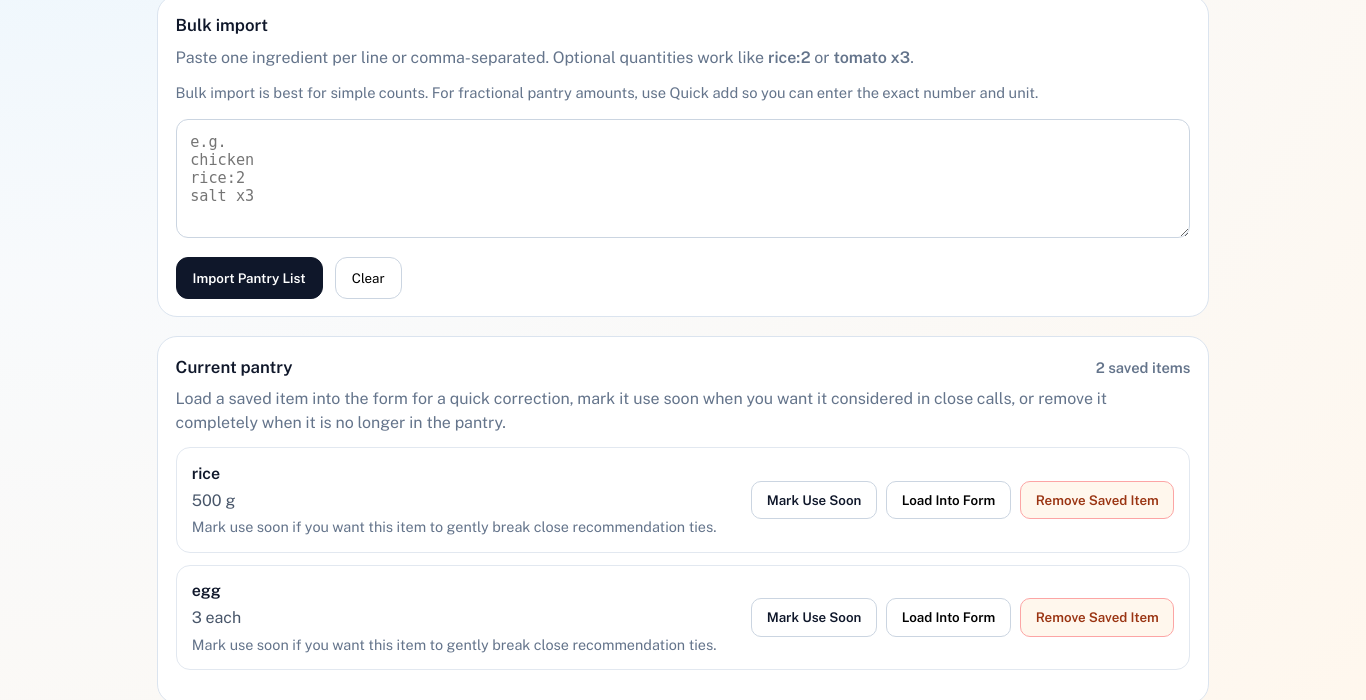
it: Pantry precision flow › loads a pantry row into the quick add form for precise correction
The width and height of the screenshot is (1366, 700).
(page scrolled)
Click the button "Load Into Form" in the row of "500 g". click: (949, 500)
box: [886,481,1011,519]
(page scrolled)
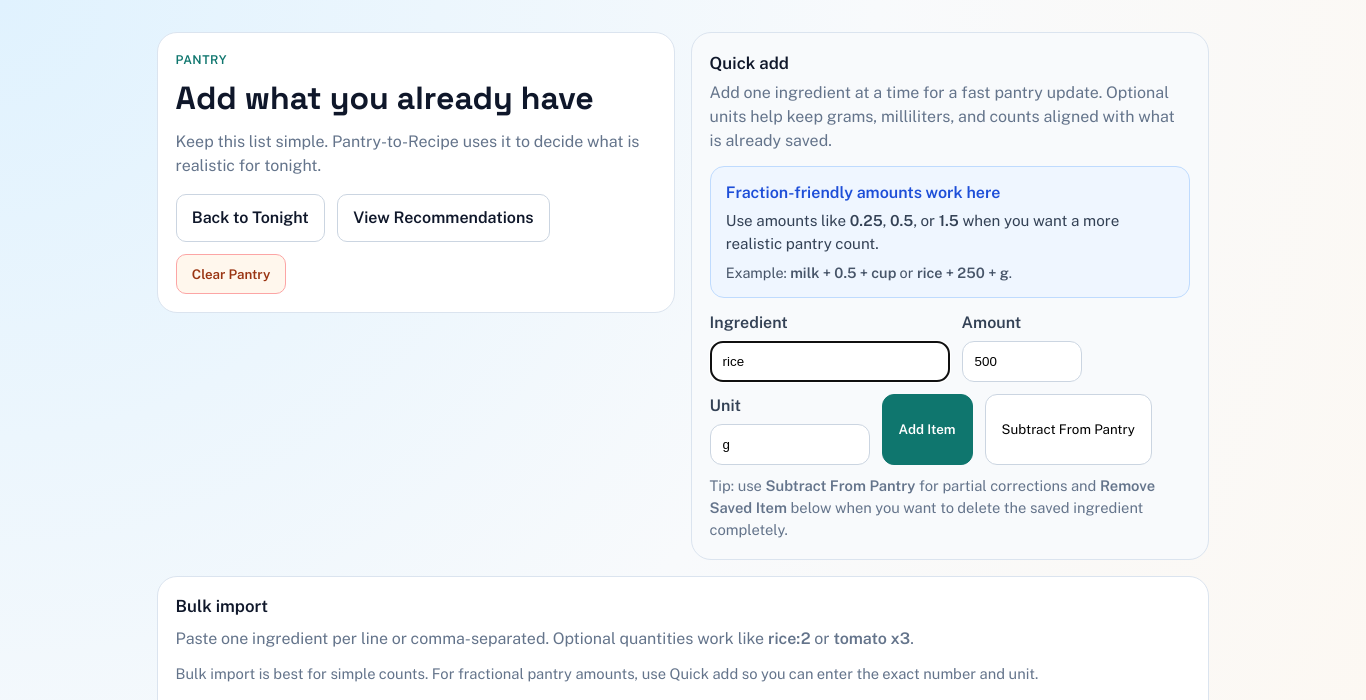
Check: the number field labelled "Amount" holds "500", box [962,341,1082,382]
